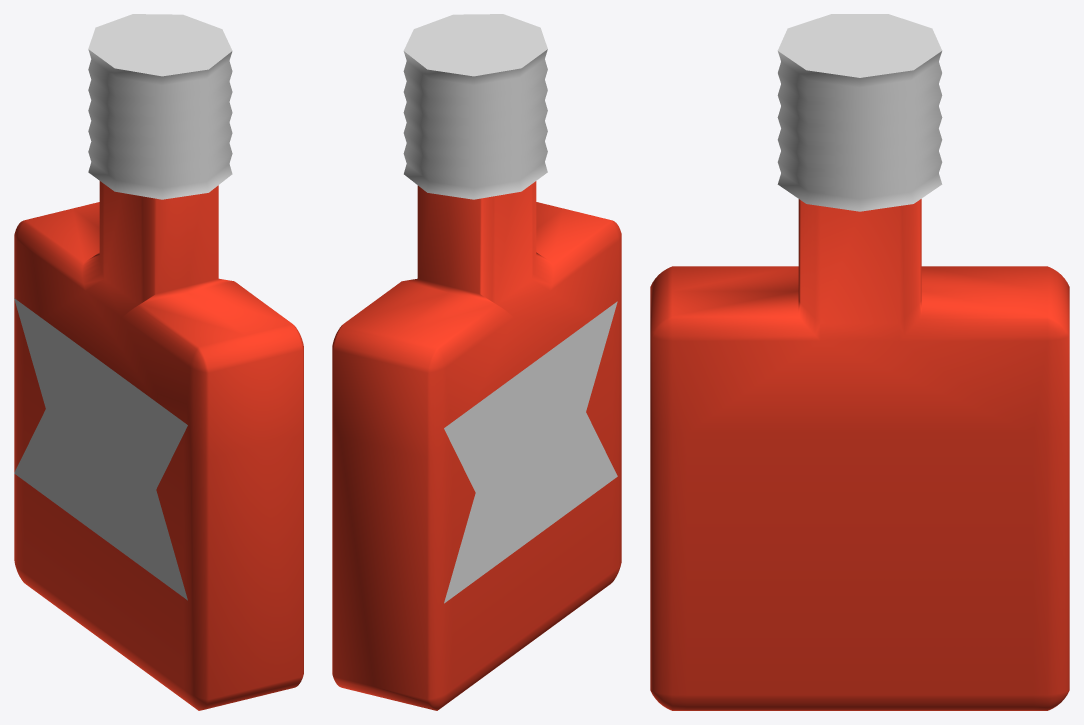
The model's file is Botella whisky.fbx.
The picture shows the model from 3 angles, left to right: view 1: azimuth 30°, elevation 25°; view 2: azimuth 150°, elevation 25°; view 3: azimuth 270°, elevation 25°; orthographic projection. The views are drawn at different scales.
Parts seen in each view (by area): view 1: Box001, Box002, Cylinder001; view 2: Box001, Box002, Cylinder001; view 3: Box001, Cylinder001.
Boxes of the visible parts, x1,y1,x2,y2 form: Box001: (14,181,303,710); Box002: (14,298,187,600); Cylinder001: (88,14,232,199); Box001: (332,181,621,710); Box002: (444,301,617,603); Cylinder001: (403,14,547,199); Box001: (650,199,1069,710); Cylinder001: (777,14,942,211).
Size of the model in its own units: 12.48 by 58.35 by 34.56.
